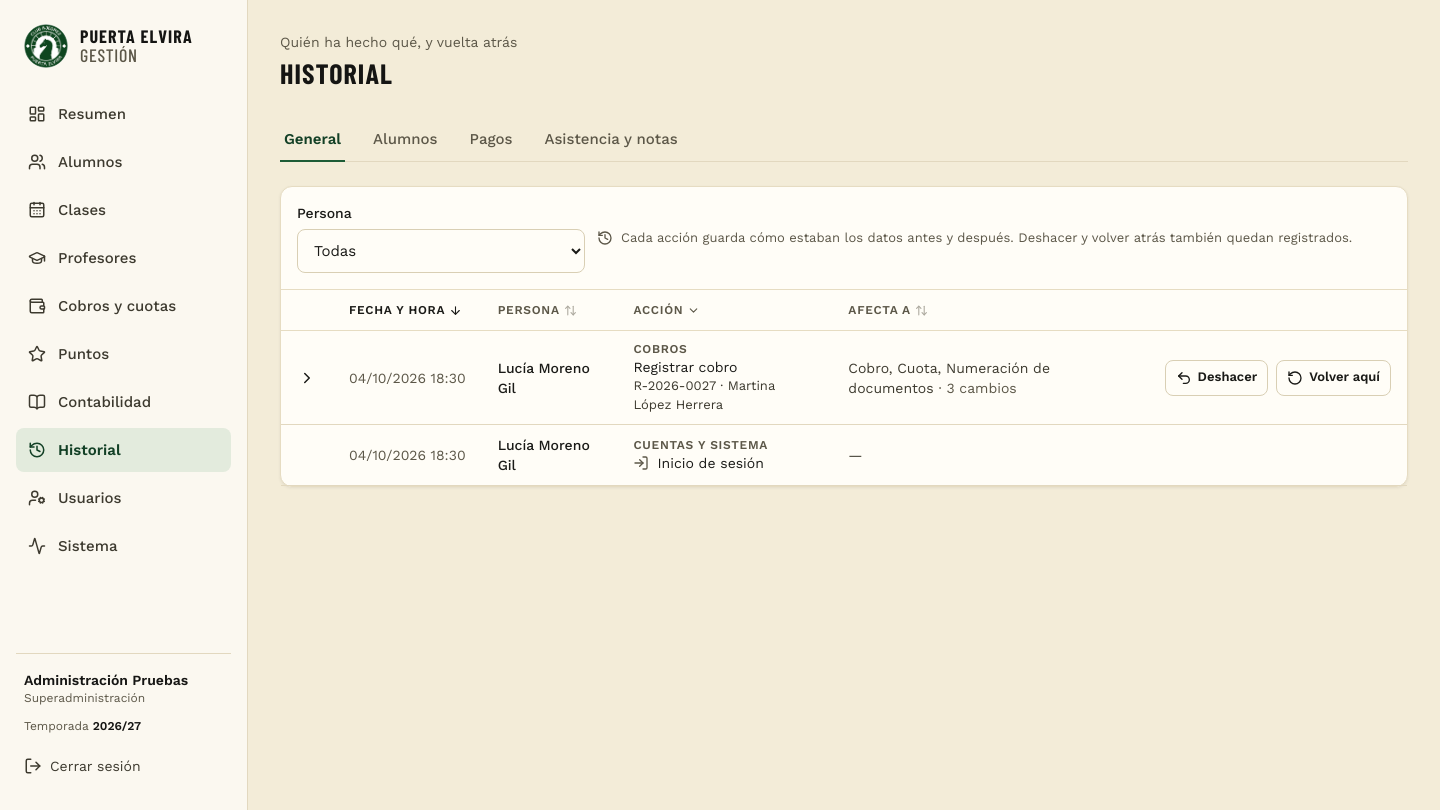
Test: Historial › lists who did what and when, with the detail of each change
Expected: the row "Registrar cobro" shows "Lucía Moreno Gil", [498, 360, 590, 396]
Expected: the row "Registrar cobro" shows "04/10/2026 18:30", [349, 370, 466, 386]
Click the button named "Ver detalle de Registrar cobro".
click(307, 378)  # box [289, 360, 325, 396]
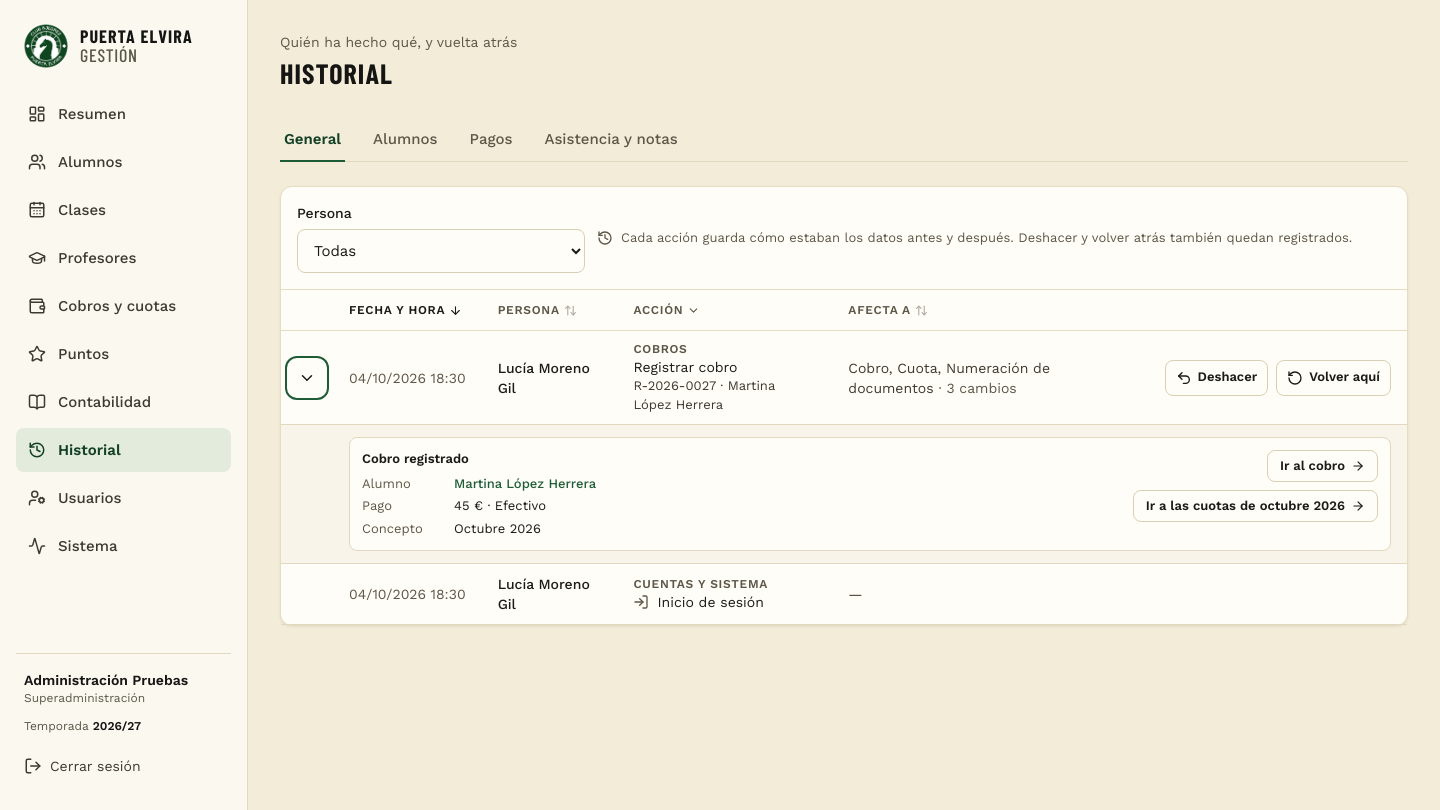
Now the element showing "Martina López Herrera" is shown, box [454, 475, 596, 493]
Now the text "45 € · Efectivo" is shown, box [454, 498, 546, 513]
Now the element showing "Octubre 2026" is shown, box [454, 521, 541, 536]
